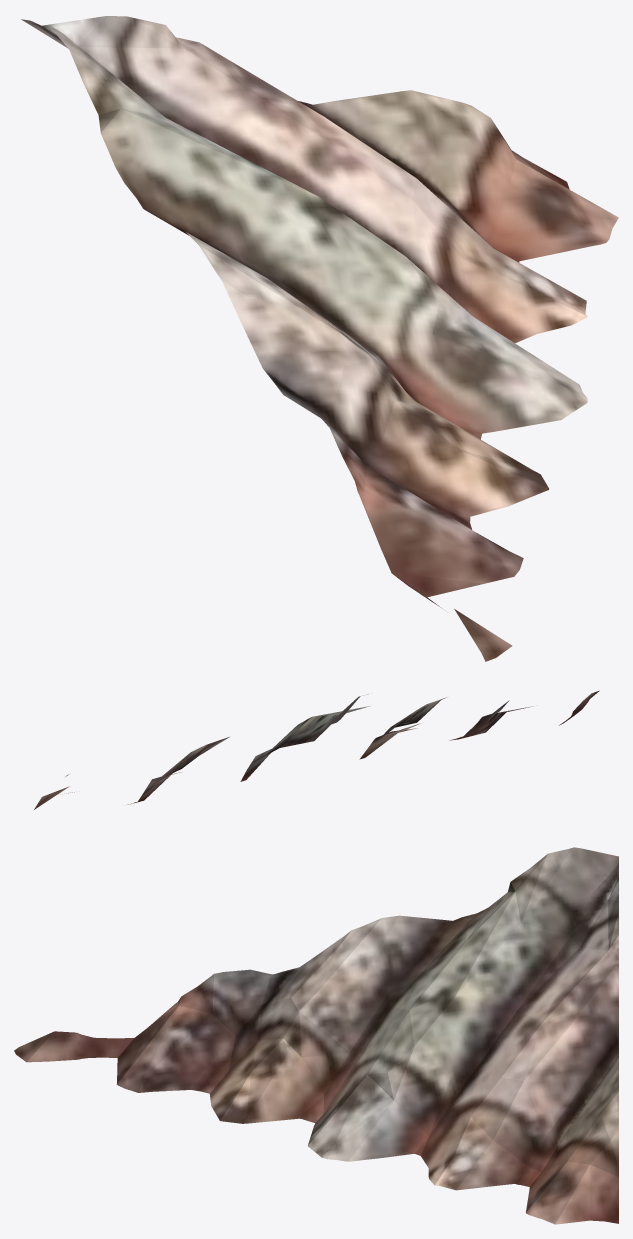
3 renders of one model, top to bottom at view 1: azimuth 30°, elevation 25°; view 2: azimuth 150°, elevation 25°; view 3: azimuth 270°, elevation 25°, orthographic. The views are drawn at different scales.
Bounding box in the file's own units: 0.6587 × 0.3594 × 0.9687.
Materials: 1 (1 with a texture image).
